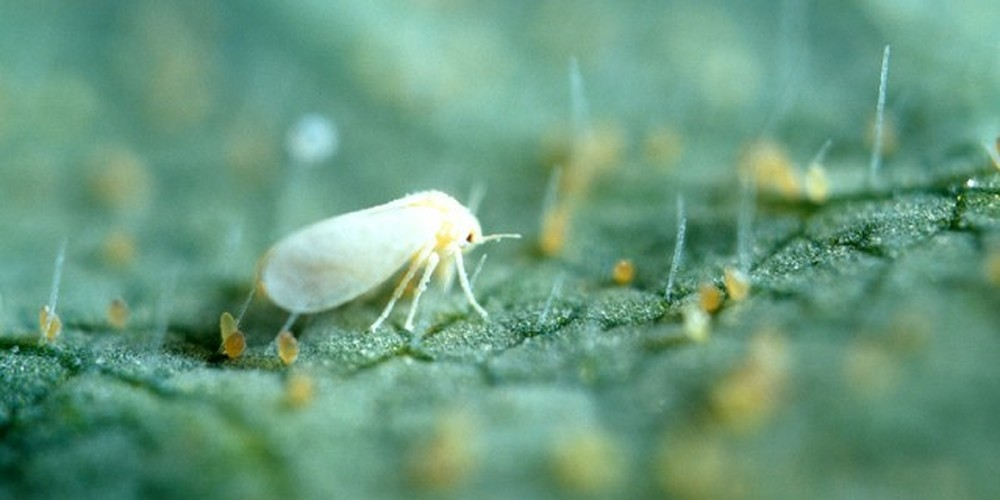Mosca Blanca: (242, 173, 543, 352)
